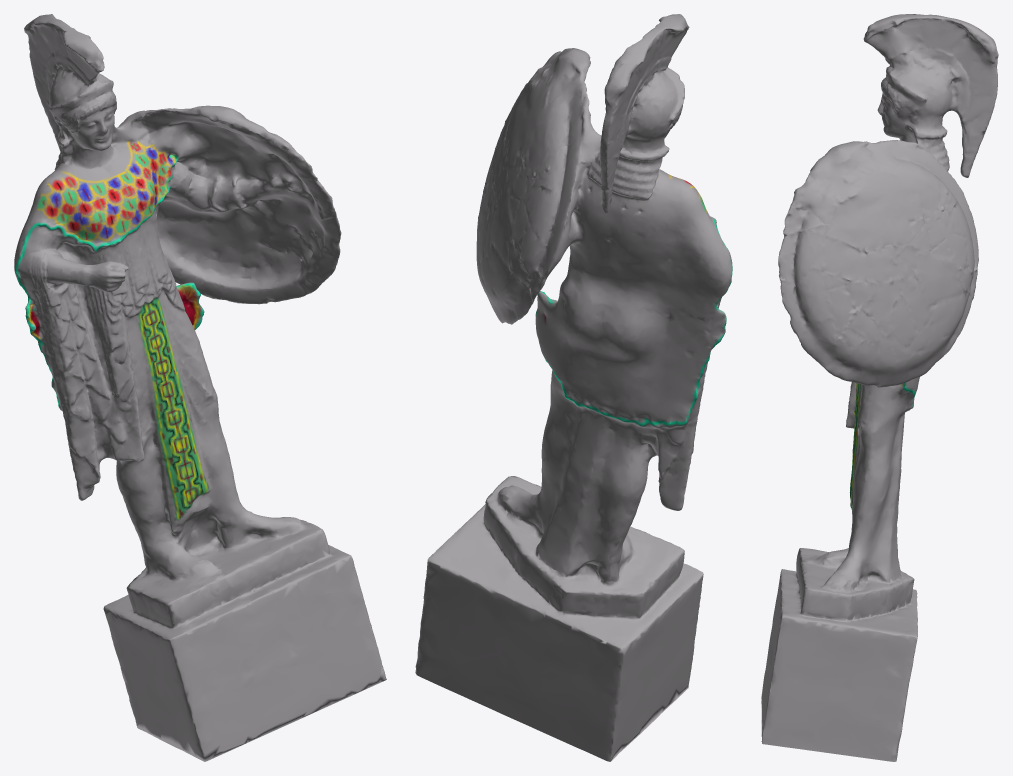
Rendered from painted.fbx.
3 views of the same model, side by side, from view 1: azimuth 30°, elevation 25°; view 2: azimuth 150°, elevation 25°; view 3: azimuth 270°, elevation 25° (orthographic). The views are drawn at different scales.
Visible parts, largest first — view 1: node_id4; view 2: node_id4; view 3: node_id4.
Part boxes in pixels (x1=…): node_id4: x1=14, y1=14, x2=386, y2=761; node_id4: x1=415, y1=14, x2=732, y2=761; node_id4: x1=761, y1=14, x2=998, y2=761.
Bounding box in the file's own units: 0.229 × 0.5149 × 0.1648.
Materials: 1 (1 with a texture image).
